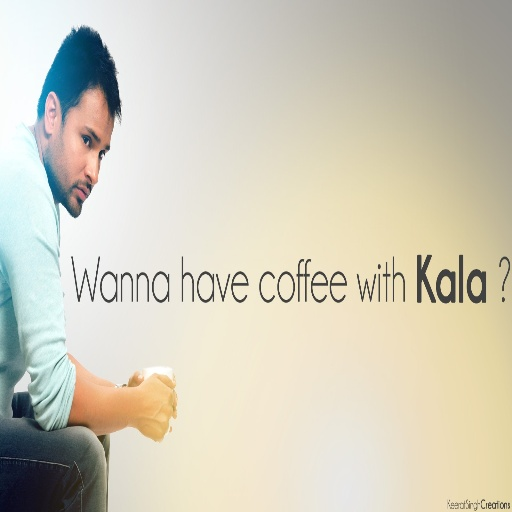hand: (127, 368, 178, 419)
